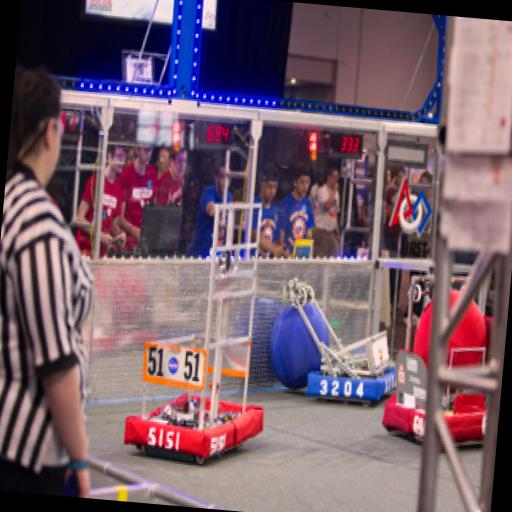robot: (120, 143, 288, 467), (380, 288, 508, 450), (276, 276, 410, 408)
